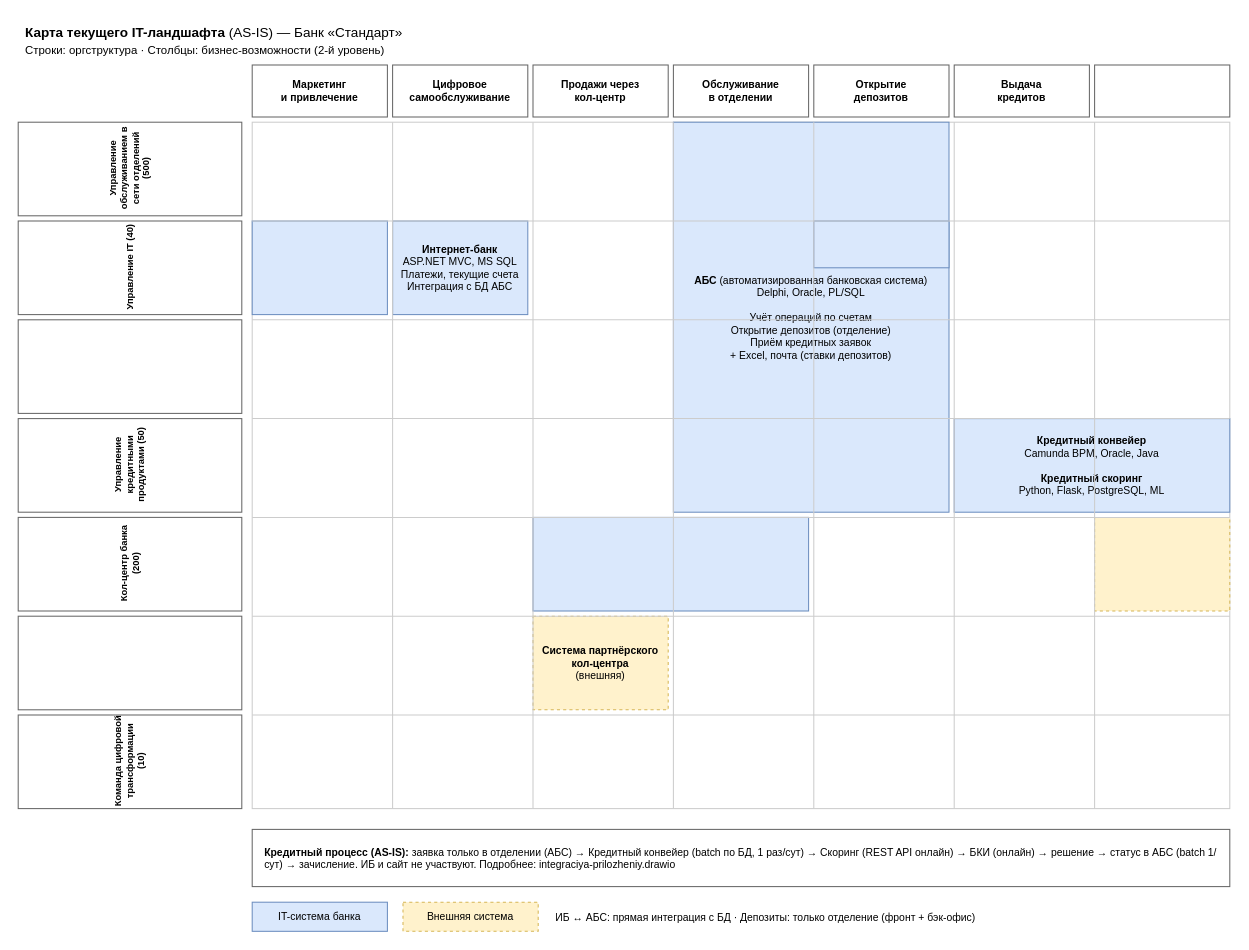
This 1249x950 diagram has some shape labels left out. Here are the shapes that lost their labels. From the top down, the box of each, then its label:
(1094, 64, 1230, 117): Оценка кредитного риска
(813, 220, 949, 268): СМС-шлюз + Телеком (внешн.)
(251, 220, 387, 315): Сайт PHP, React.js Только маркетинг
(17, 319, 242, 413): Управление депозитными продуктами (50)
(532, 516, 809, 611): Система кол-центра React, Spring Boot, PostgreSQL · интеграция с АБС
(1094, 516, 1230, 611): БКИ (внешняя) REST API
(17, 615, 242, 710): Партнёрский кол-центр (100)
